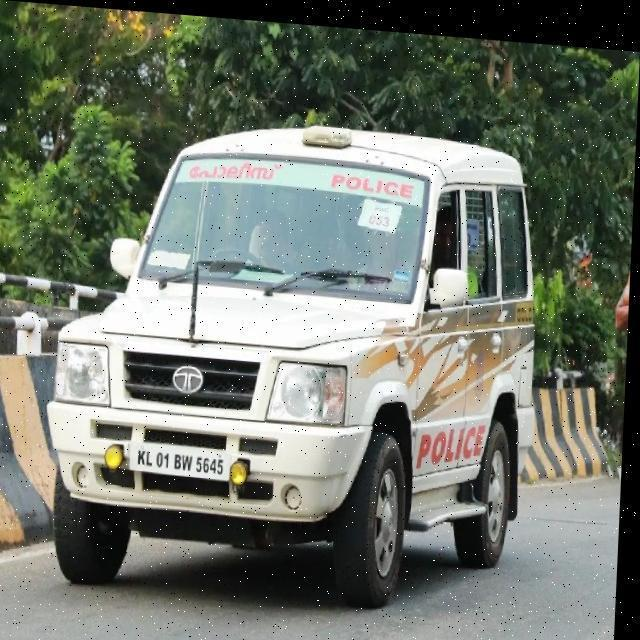Ambulance: (40, 98, 554, 620), (0, 420, 623, 640), (243, 200, 302, 274)
